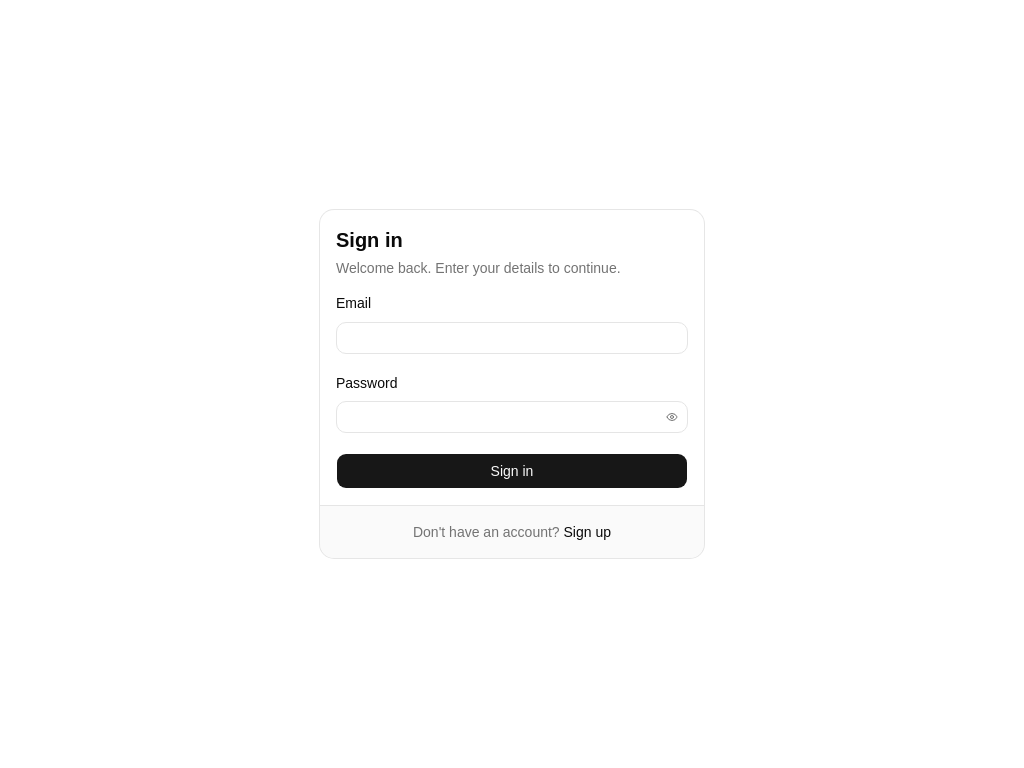
Scenario: route guards › signs in and lands on the welcome page
Type "jane@example.com" into the field labelled "Email" at (512, 338), box [336,322,688,354]
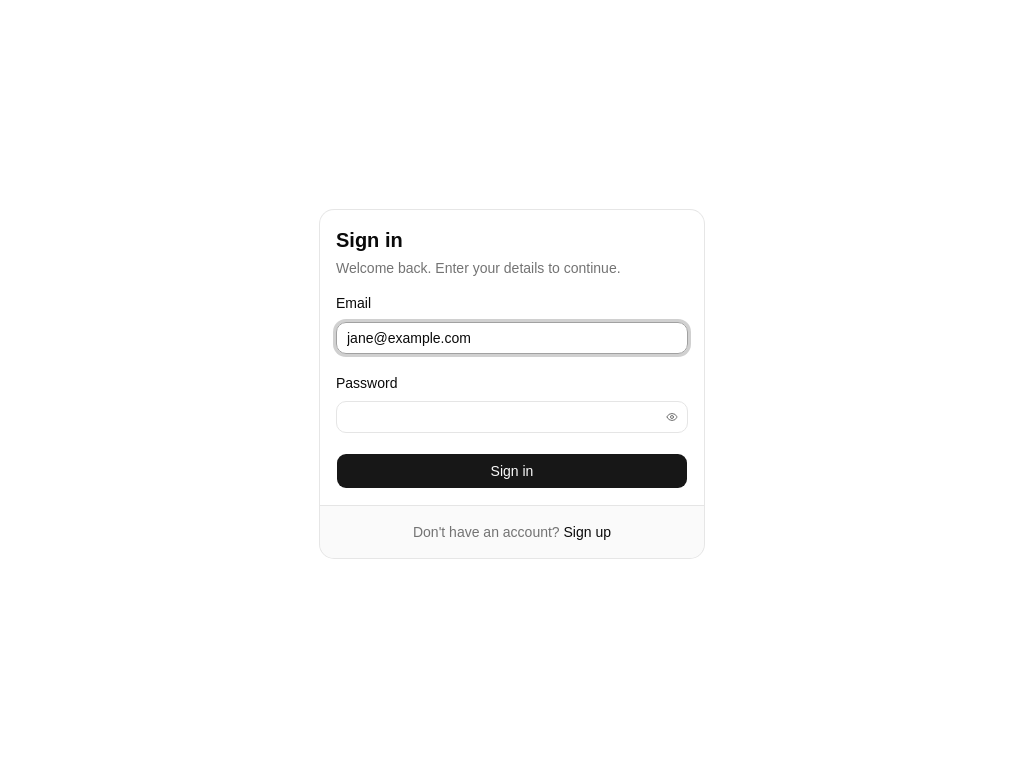
Type "Passw0rd!" into the password field labelled "Password" at (512, 417), box [336,401,688,433]
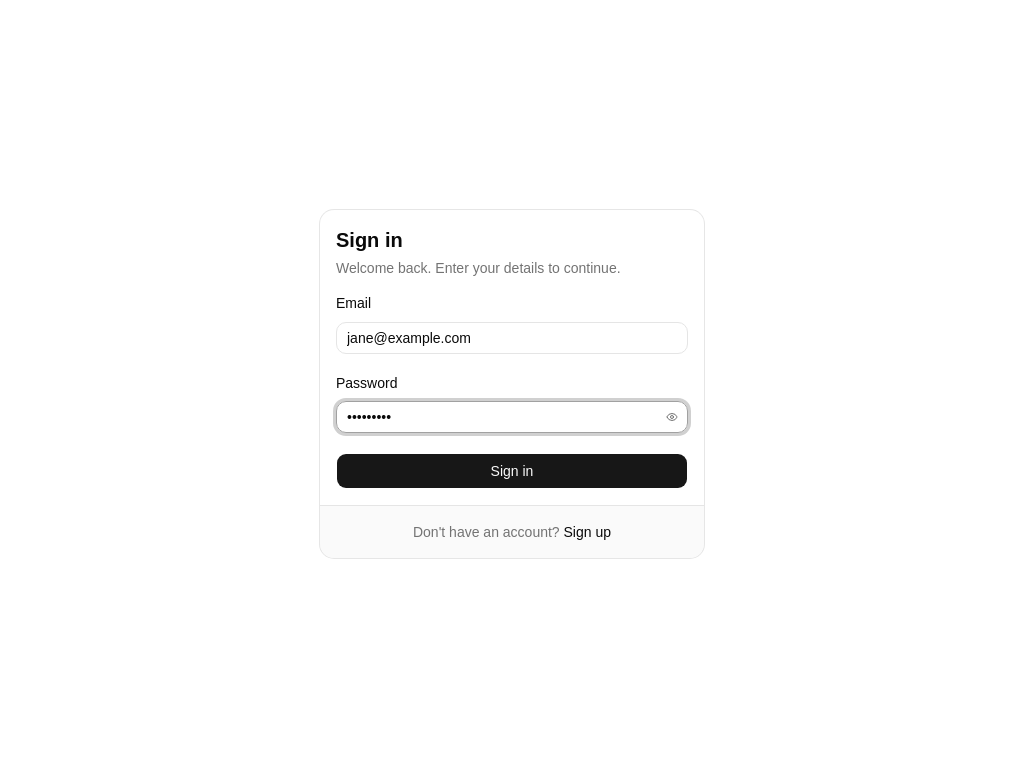
Click the button "Sign in" at (512, 471), box [336,453,688,489]
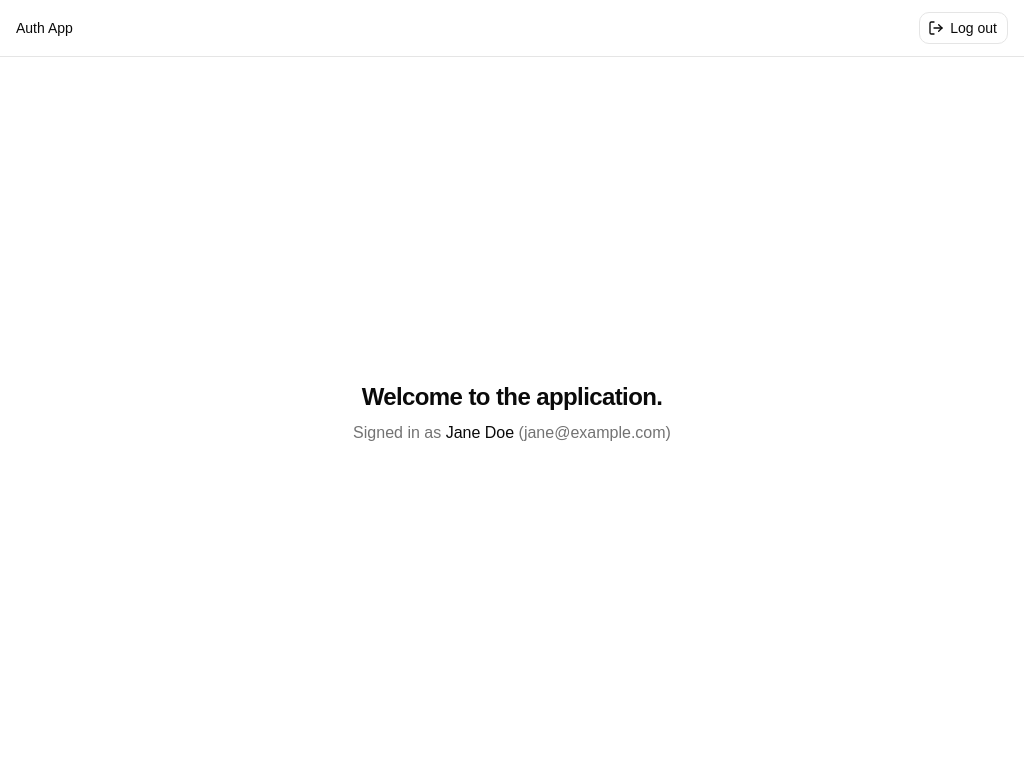
Expected: the heading "Welcome to the application." is shown, [362,380,662,412]
